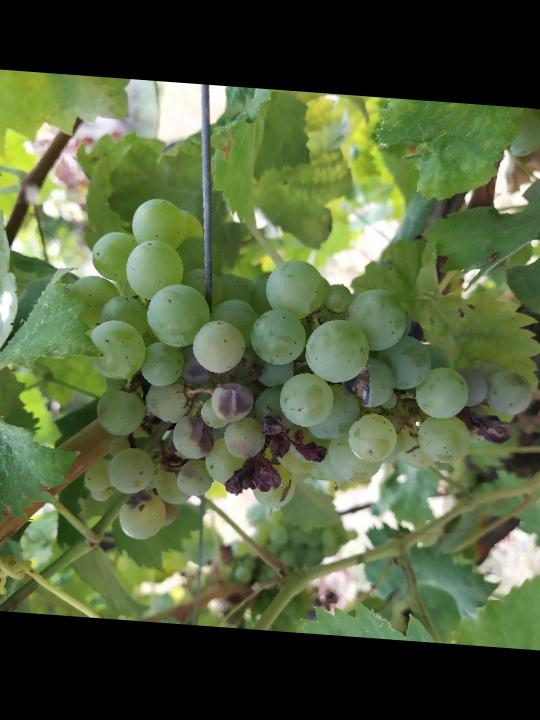grape: (50, 189, 540, 570)
